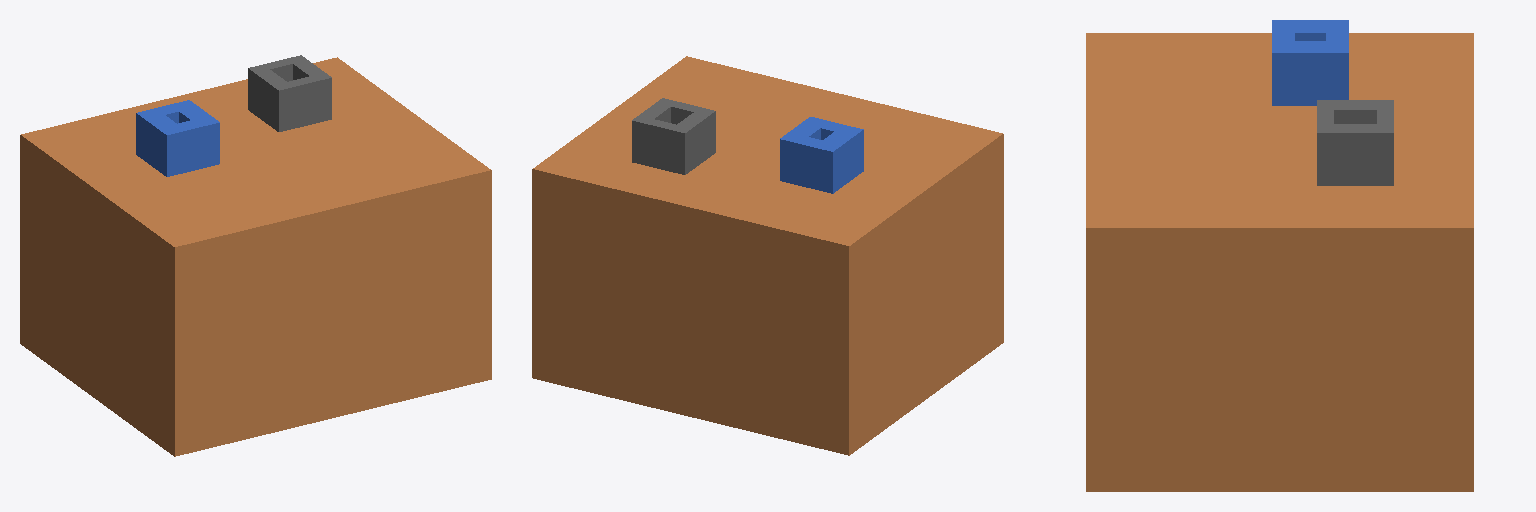
The robot description file, URDF, robot "peg_in_hole_fixtured_scene_0026_peg0016_tol03":
<?xml version="1.0"?>
<robot name="peg_in_hole_fixtured_scene_0026_peg0016_tol03">
  <material name="wood"><color rgba="0.82 0.56 0.35 1.0"/></material>
  <material name="start_fix"><color rgba="0.30 0.50 0.85 1.0"/></material>
  <material name="goal_fix"><color rgba="0.4706 0.4706 0.4706 1.0"/></material>
  <link name="box">
    <visual>
      <origin xyz="0.000000 0.000000 0.000000" rpy="0 0 0"/>
      <geometry><box size="0.475000 0.400000 0.300000"/></geometry>
      <material name="wood"/>
    </visual>
    <collision>
      <origin xyz="0.000000 0.000000 0.000000" rpy="0 0 0"/>
      <geometry><box size="0.475000 0.400000 0.300000"/></geometry>
    </collision>
    <visual>
      <origin xyz="-0.098529 0.031434 0.155000" rpy="0 0 0"/>
      <geometry><box size="0.080000 0.080000 0.010000"/></geometry>
      <material name="start_fix"/>
    </visual>
    <collision>
      <origin xyz="-0.098529 0.031434 0.155000" rpy="0 0 0"/>
      <geometry><box size="0.080000 0.080000 0.010000"/></geometry>
    </collision>
    <visual>
      <origin xyz="-0.073279 0.031434 0.185000" rpy="0 0 0"/>
      <geometry><box size="0.029500 0.080000 0.050000"/></geometry>
      <material name="start_fix"/>
    </visual>
    <collision>
      <origin xyz="-0.073279 0.031434 0.185000" rpy="0 0 0"/>
      <geometry><box size="0.029500 0.080000 0.050000"/></geometry>
    </collision>
    <visual>
      <origin xyz="-0.123779 0.031434 0.185000" rpy="0 0 0"/>
      <geometry><box size="0.029500 0.080000 0.050000"/></geometry>
      <material name="start_fix"/>
    </visual>
    <collision>
      <origin xyz="-0.123779 0.031434 0.185000" rpy="0 0 0"/>
      <geometry><box size="0.029500 0.080000 0.050000"/></geometry>
    </collision>
    <visual>
      <origin xyz="-0.098529 0.059184 0.185000" rpy="0 0 0"/>
      <geometry><box size="0.021000 0.024500 0.050000"/></geometry>
      <material name="start_fix"/>
    </visual>
    <collision>
      <origin xyz="-0.098529 0.059184 0.185000" rpy="0 0 0"/>
      <geometry><box size="0.021000 0.024500 0.050000"/></geometry>
    </collision>
    <visual>
      <origin xyz="-0.098529 0.003684 0.185000" rpy="0 0 0"/>
      <geometry><box size="0.021000 0.024500 0.050000"/></geometry>
      <material name="start_fix"/>
    </visual>
    <collision>
      <origin xyz="-0.098529 0.003684 0.185000" rpy="0 0 0"/>
      <geometry><box size="0.021000 0.024500 0.050000"/></geometry>
    </collision>
    <visual>
      <origin xyz="0.096036 0.077851 0.155000" rpy="0 0 0"/>
      <geometry><box size="0.080000 0.080000 0.010000"/></geometry>
      <material name="goal_fix"/>
    </visual>
    <collision>
      <origin xyz="0.096036 0.077851 0.155000" rpy="0 0 0"/>
      <geometry><box size="0.080000 0.080000 0.010000"/></geometry>
    </collision>
    <visual>
      <origin xyz="0.124611 0.077851 0.185000" rpy="0 0 0"/>
      <geometry><box size="0.022850 0.080000 0.050000"/></geometry>
      <material name="goal_fix"/>
    </visual>
    <collision>
      <origin xyz="0.124611 0.077851 0.185000" rpy="0 0 0"/>
      <geometry><box size="0.022850 0.080000 0.050000"/></geometry>
    </collision>
    <visual>
      <origin xyz="0.067461 0.077851 0.185000" rpy="0 0 0"/>
      <geometry><box size="0.022850 0.080000 0.050000"/></geometry>
      <material name="goal_fix"/>
    </visual>
    <collision>
      <origin xyz="0.067461 0.077851 0.185000" rpy="0 0 0"/>
      <geometry><box size="0.022850 0.080000 0.050000"/></geometry>
    </collision>
    <visual>
      <origin xyz="0.096036 0.108926 0.185000" rpy="0 0 0"/>
      <geometry><box size="0.034300 0.017850 0.050000"/></geometry>
      <material name="goal_fix"/>
    </visual>
    <collision>
      <origin xyz="0.096036 0.108926 0.185000" rpy="0 0 0"/>
      <geometry><box size="0.034300 0.017850 0.050000"/></geometry>
    </collision>
    <visual>
      <origin xyz="0.096036 0.046776 0.185000" rpy="0 0 0"/>
      <geometry><box size="0.034300 0.017850 0.050000"/></geometry>
      <material name="goal_fix"/>
    </visual>
    <collision>
      <origin xyz="0.096036 0.046776 0.185000" rpy="0 0 0"/>
      <geometry><box size="0.034300 0.017850 0.050000"/></geometry>
    </collision>
    <inertial>
      <mass value="500"/>
      <friction value="1.0"/>
      <inertia ixx="1000.0" ixy="0.0" ixz="0.0" iyy="1000.0" iyz="0.0" izz="1000.0"/>
    </inertial>
  </link>
</robot>

--- Facts derived from the render (not from the file) ---
The picture shows the robot from 3 angles, left to right: view 1: azimuth 30°, elevation 25°; view 2: azimuth 150°, elevation 25°; view 3: azimuth 270°, elevation 25°; orthographic projection.
Robot: peg_in_hole_fixtured_scene_0026_peg0016_tol03 — 1 links, 0 joints (none); root link box; default pose: all joints at 0.
Visible links, largest first — view 1: box; view 2: box; view 3: box.
Boxes of the visible links, x1,y1,x2,y2 form: box: [20, 55, 491, 456]; box: [532, 56, 1003, 455]; box: [1086, 20, 1473, 491].
Bounding box of the posed robot: 0.475 × 0.4 × 0.36 m (x, y, z).
Geometry: primitives only (box / cylinder / sphere), no mesh files.
